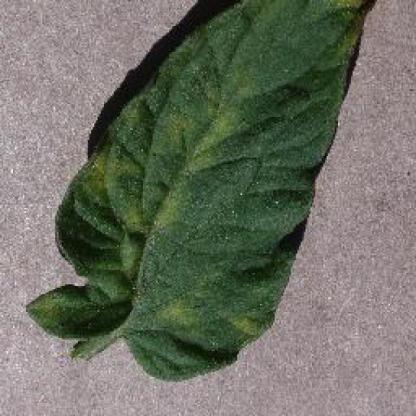Tomato_Leaf_Mold: (29, 2, 374, 380)
